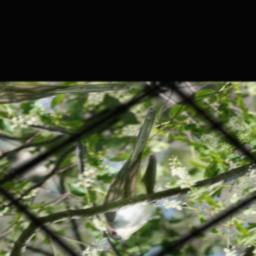Cuckoo: (36, 100, 244, 252)
